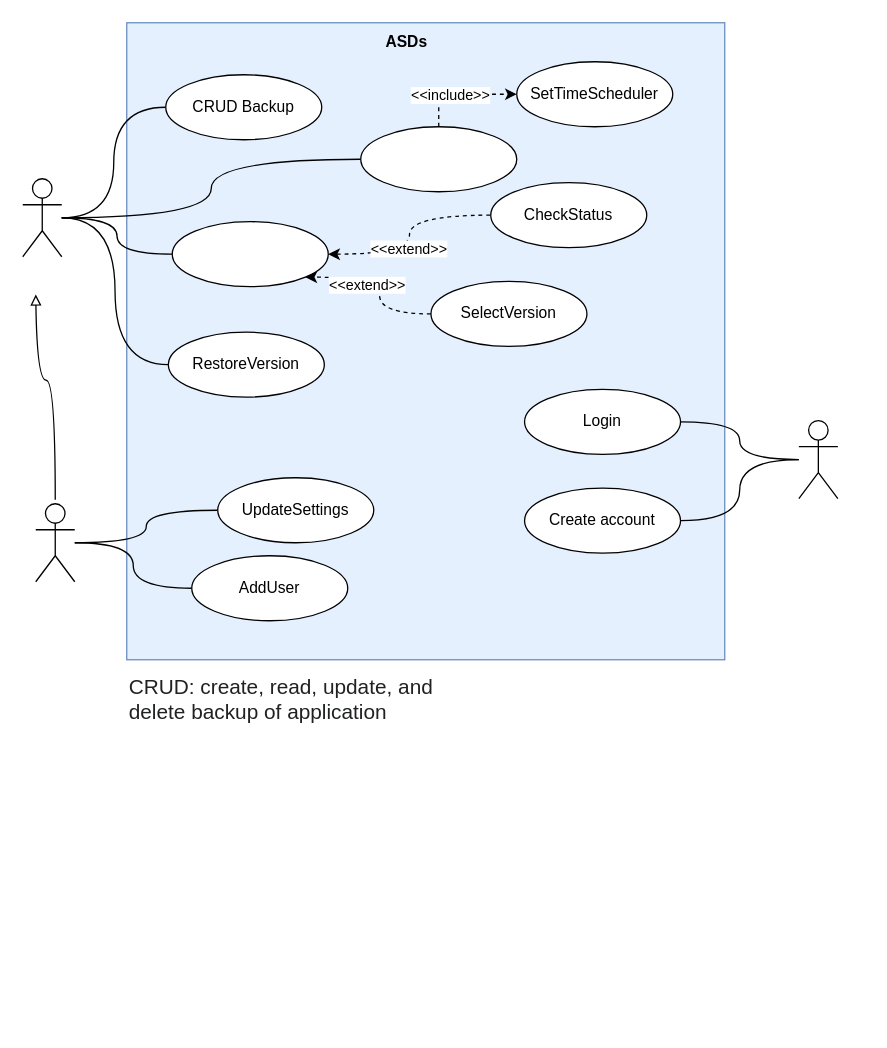
Image size: 887x1048. Some labels were removed from this diagram. Each missing label, with the centre of its shape:
"Admin" goes at pixel 54 542.
"AppControl" goes at pixel 249 253.
"SetAutomaticBackup" goes at pixel 438 158.
"Unauthorized user" goes at pixel 818 459.
"User" goes at pixel 41 217.
